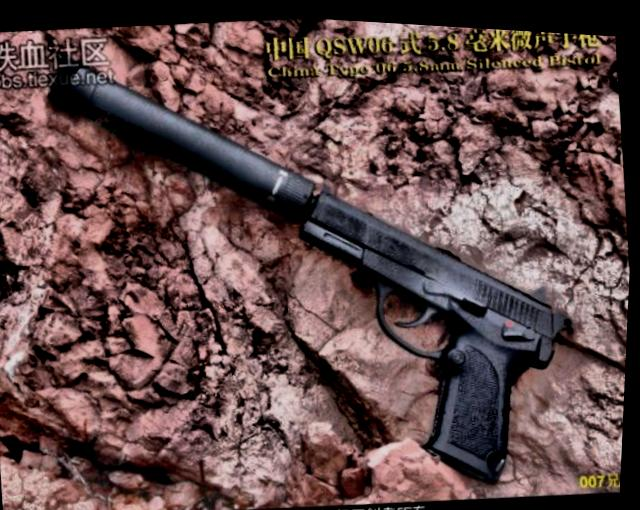pistol: (279, 141, 595, 502)
